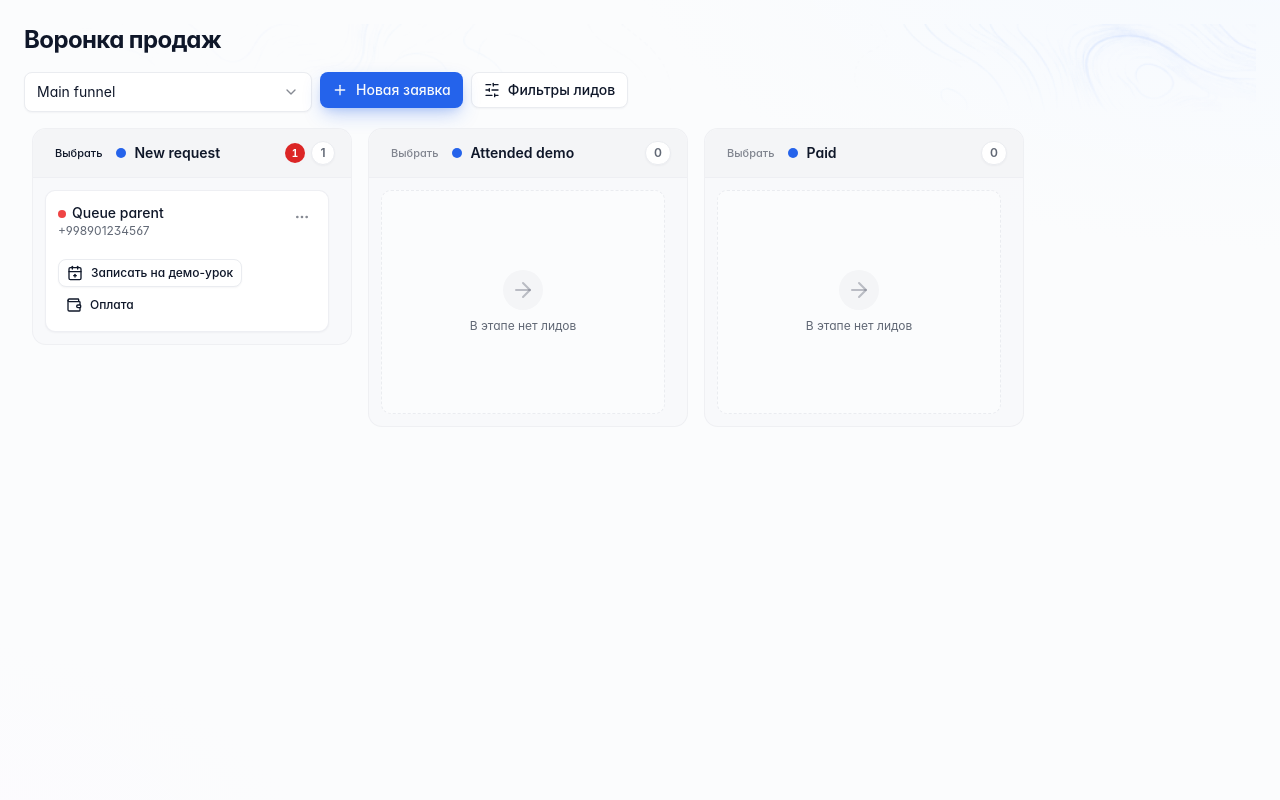
Test case: manual stage changes from the sales pipeline › opens claiming instead of moving a free lead to Attended demo
Click the button named "Действия" at point(302, 217), box [288,203,316,231]
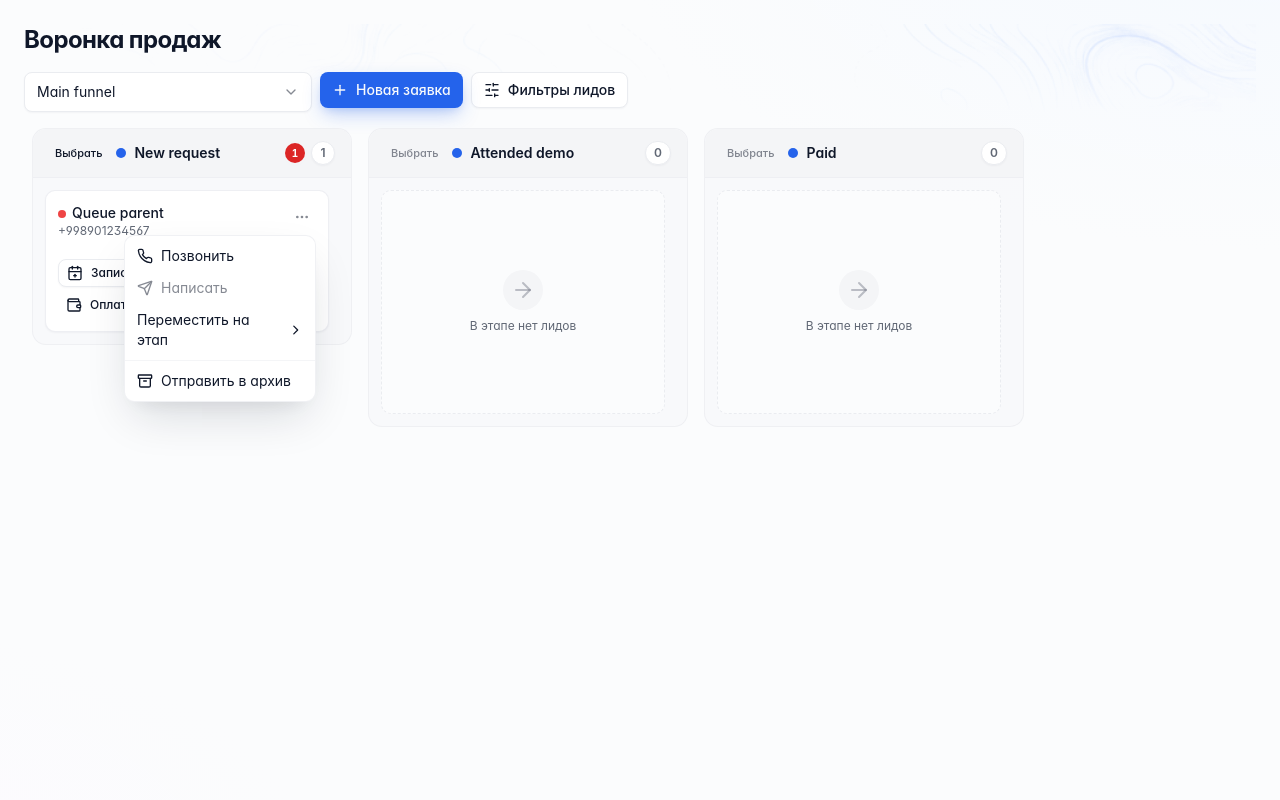
Click the menu item "Переместить на этап" at point(220, 330), box [129,304,311,356]
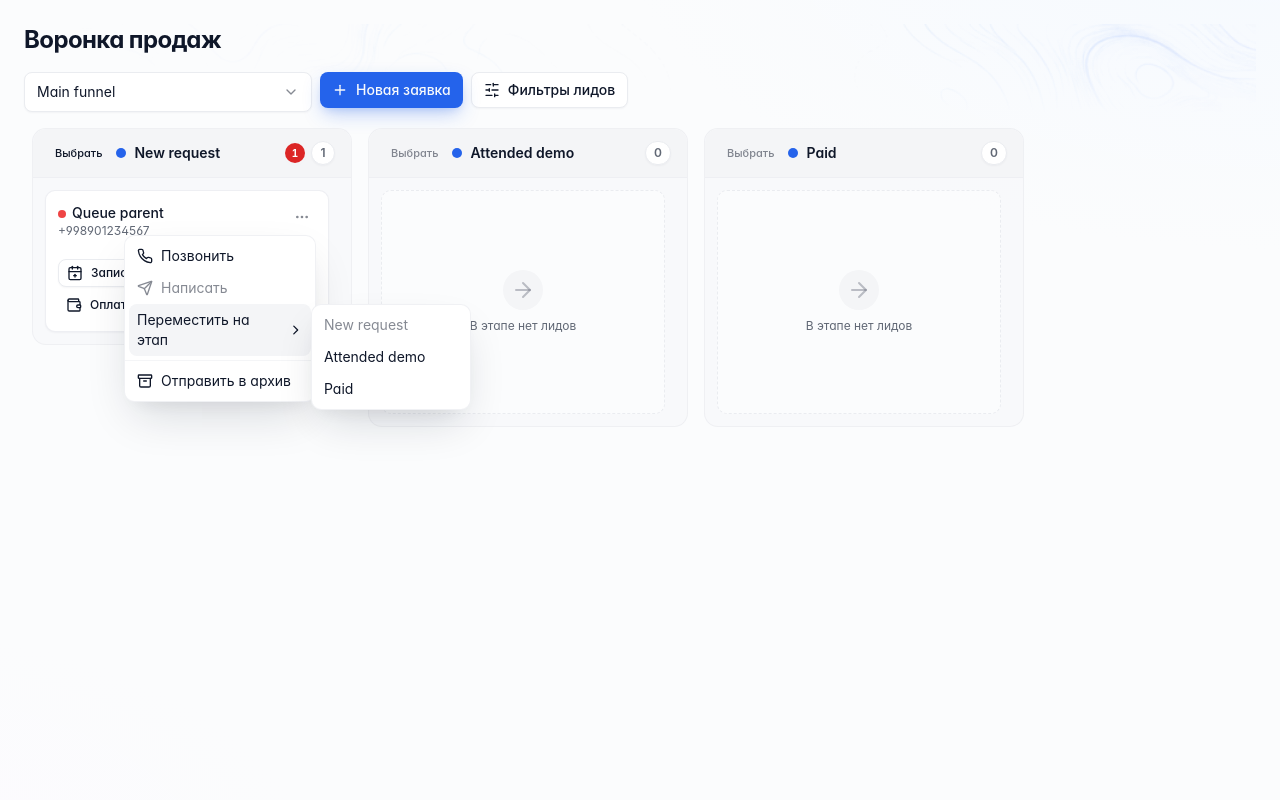
Click the menu item "Attended demo" at point(375, 356), box [324,348,426,365]
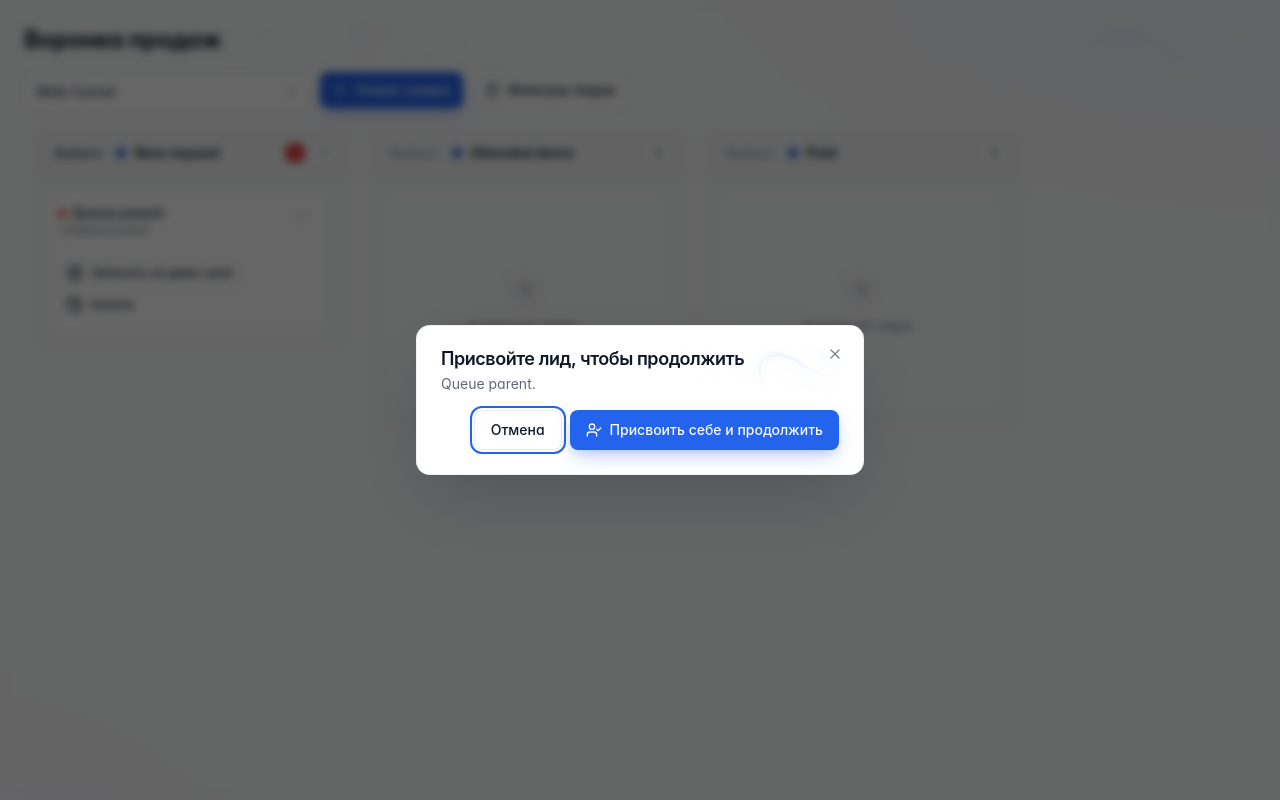
Expected: the button "Присвоить себе и продолжить" is shown, [570,410,839,450]
